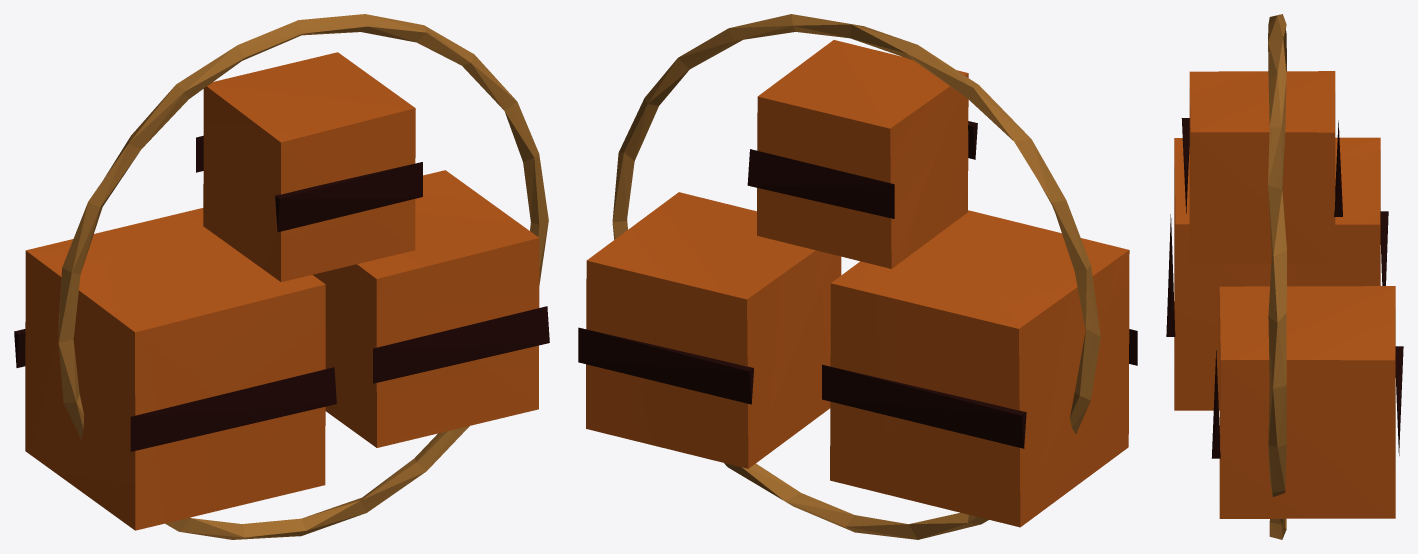
The model's file is upgrade_lashed_cargo_crates.three-web-toon.lod50.glb.
The picture shows the model from 3 angles, left to right: view 1: azimuth 30°, elevation 25°; view 2: azimuth 150°, elevation 25°; view 3: azimuth 270°, elevation 25°; orthographic projection. The views are drawn at different scales.
Visible parts, largest first — view 1: upgrade_lashed_cargo_crates_mesh_lod; view 2: upgrade_lashed_cargo_crates_mesh_lod; view 3: upgrade_lashed_cargo_crates_mesh_lod.
Part boxes in pixels (<box>): upgrade_lashed_cargo_crates_mesh_lod: <box>14,14,549,539</box>; upgrade_lashed_cargo_crates_mesh_lod: <box>578,14,1137,539</box>; upgrade_lashed_cargo_crates_mesh_lod: <box>1166,14,1403,539</box>.
Size of the model in its own units: 1.75 by 1.75 by 0.7865.
